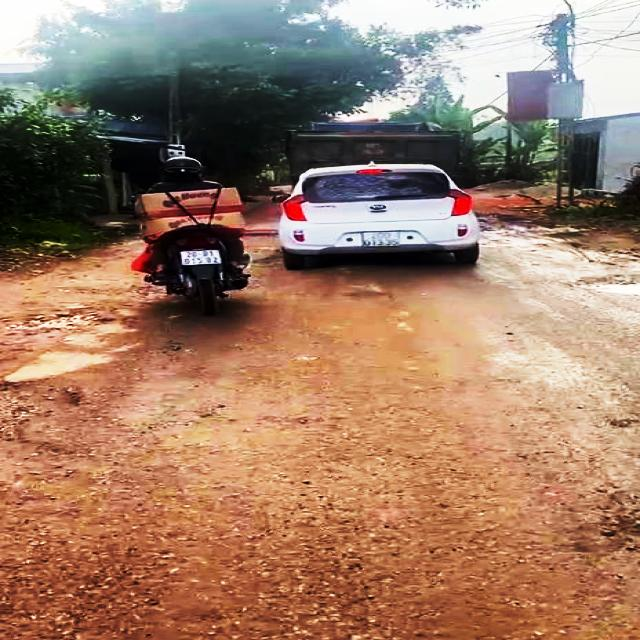pothole: (0, 370, 91, 436), (19, 309, 119, 336), (575, 275, 640, 299)
